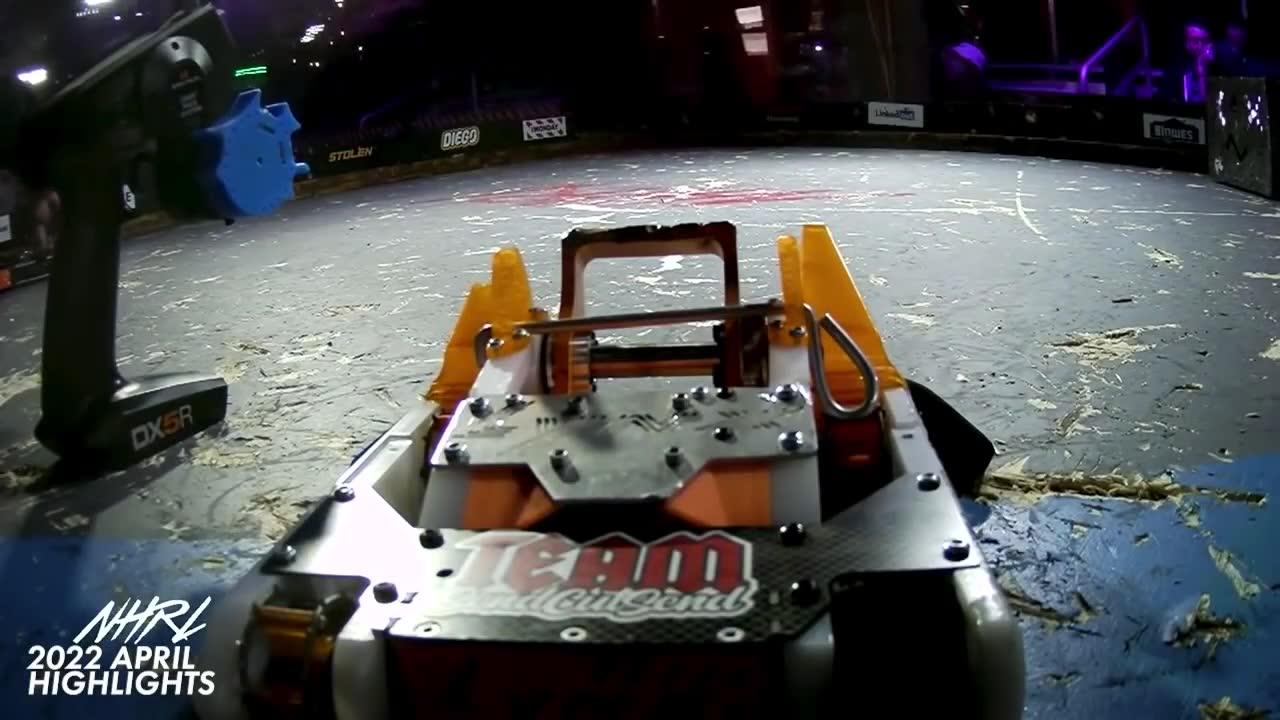combatbot: (196, 220, 1026, 715)
housebot: (1206, 77, 1279, 199)
